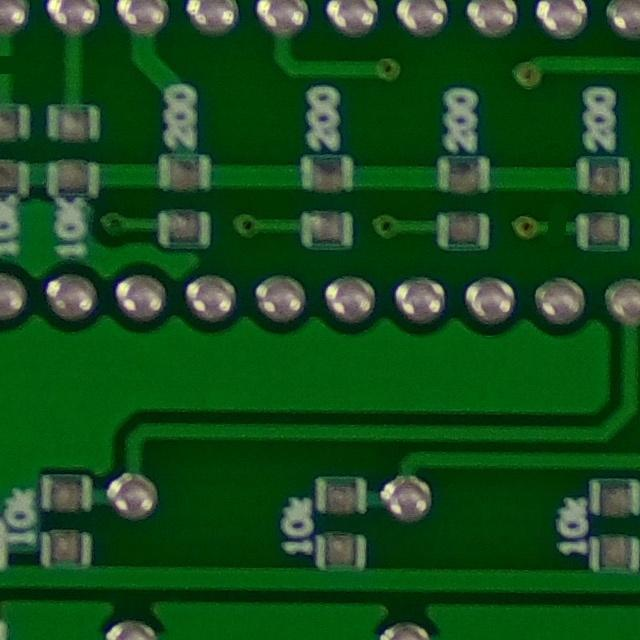open_circuit: (539, 209, 575, 248), (0, 47, 23, 82)
